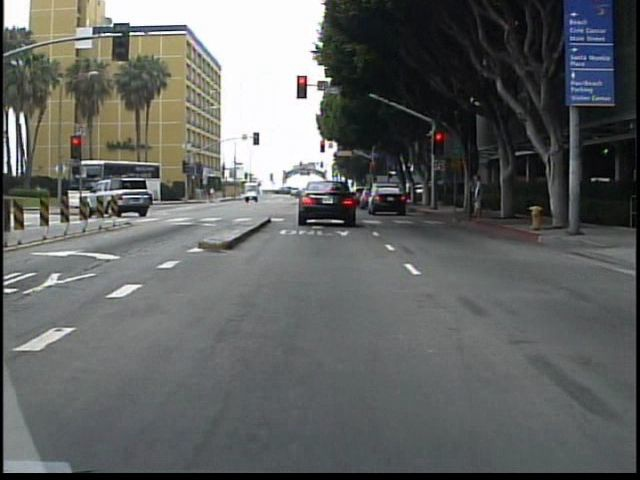person: (468, 169, 488, 221)
